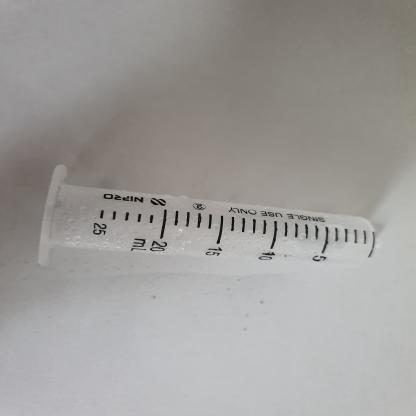wet: (37, 161, 396, 279)
